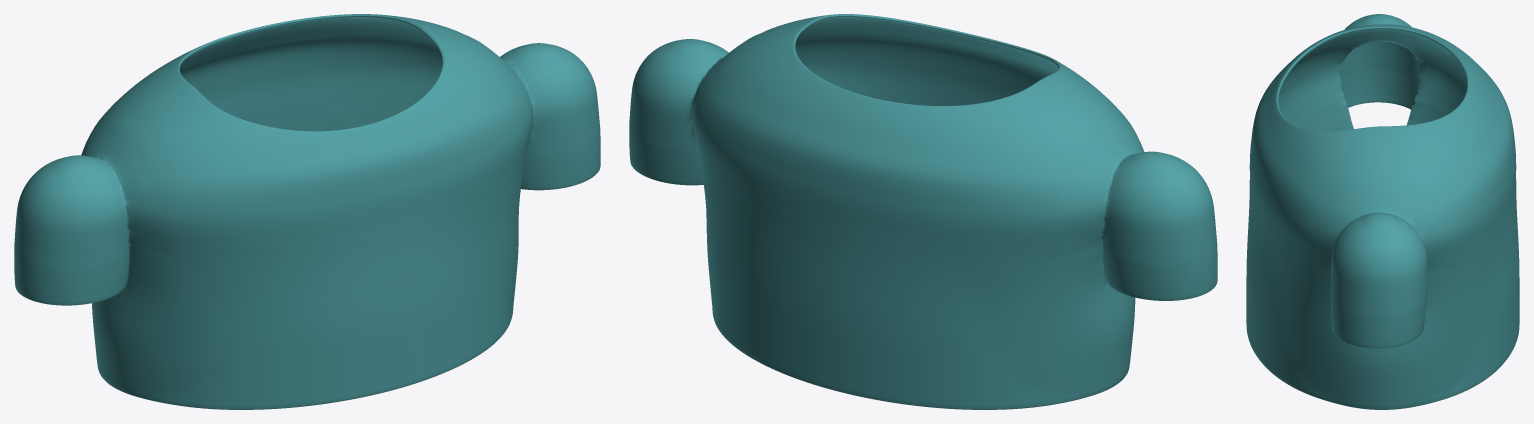
The model's file is Masculine-tshirt-top.glb.
3 renders of one model, left to right at view 1: azimuth 30°, elevation 25°; view 2: azimuth 150°, elevation 25°; view 3: azimuth 270°, elevation 25°, orthographic. The views are drawn at different scales.
Visible parts, largest first — view 1: Clothing / continuous T-shirt181, Neckline / seated181 export; view 2: Clothing / continuous T-shirt181, Neckline / seated181 export; view 3: Clothing / continuous T-shirt181, Neckline / seated181 export.
Boxes of the visible parts, x1,y1,x2,y2 form: Clothing / continuous T-shirt181: (14,14,600,409); Neckline / seated181 export: (178,14,444,131); Clothing / continuous T-shirt181: (629,14,1217,409); Neckline / seated181 export: (793,14,1060,106); Clothing / continuous T-shirt181: (1246,14,1519,409); Neckline / seated181 export: (1276,26,1468,131).
Bounding box in the file's own units: 0.9893 × 0.4645 × 0.461.
